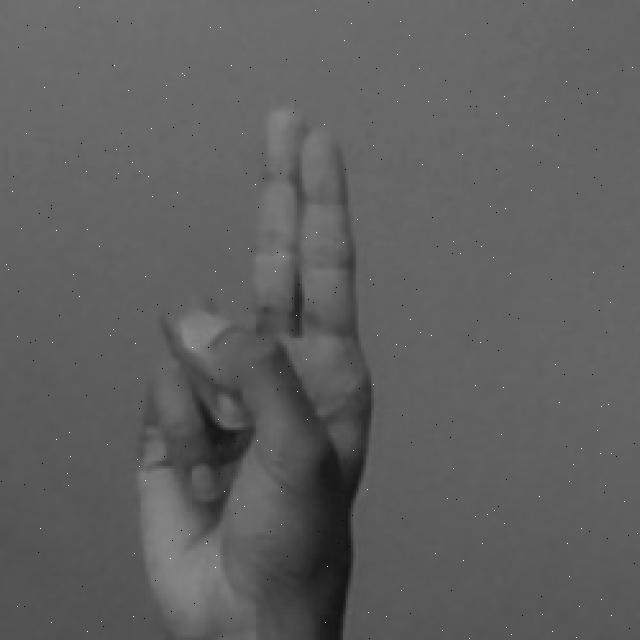U: (126, 105, 377, 640)
